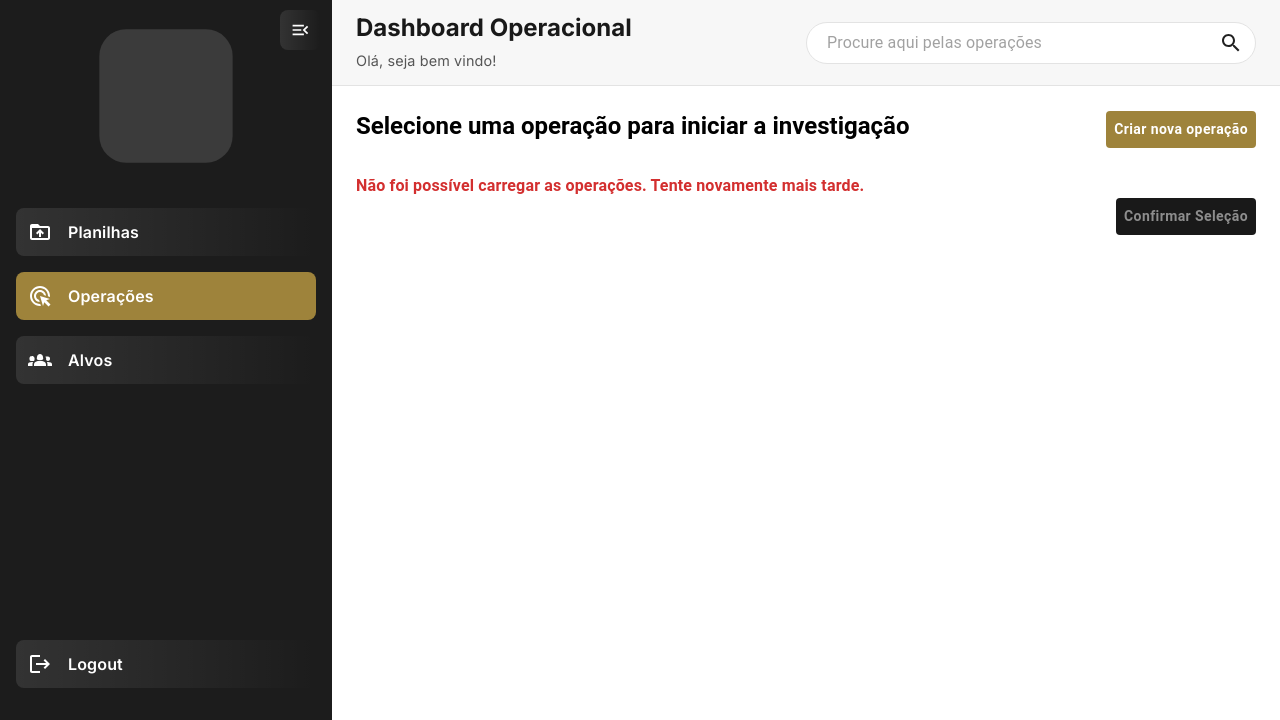
it: Teste de Operações - Criação e Seleção › Deve permitir fechar o modal sem criar operação
The width and height of the screenshot is (1280, 720).
Check: the heading "Selecione uma operação para iniciar a investigação" is shown, box [356,110,910,142]
// Clica no botão "Criar nova operação"
Click the button "Criar nova operação" at {"x": 1181, "y": 130}, box [1106,111,1256,148]
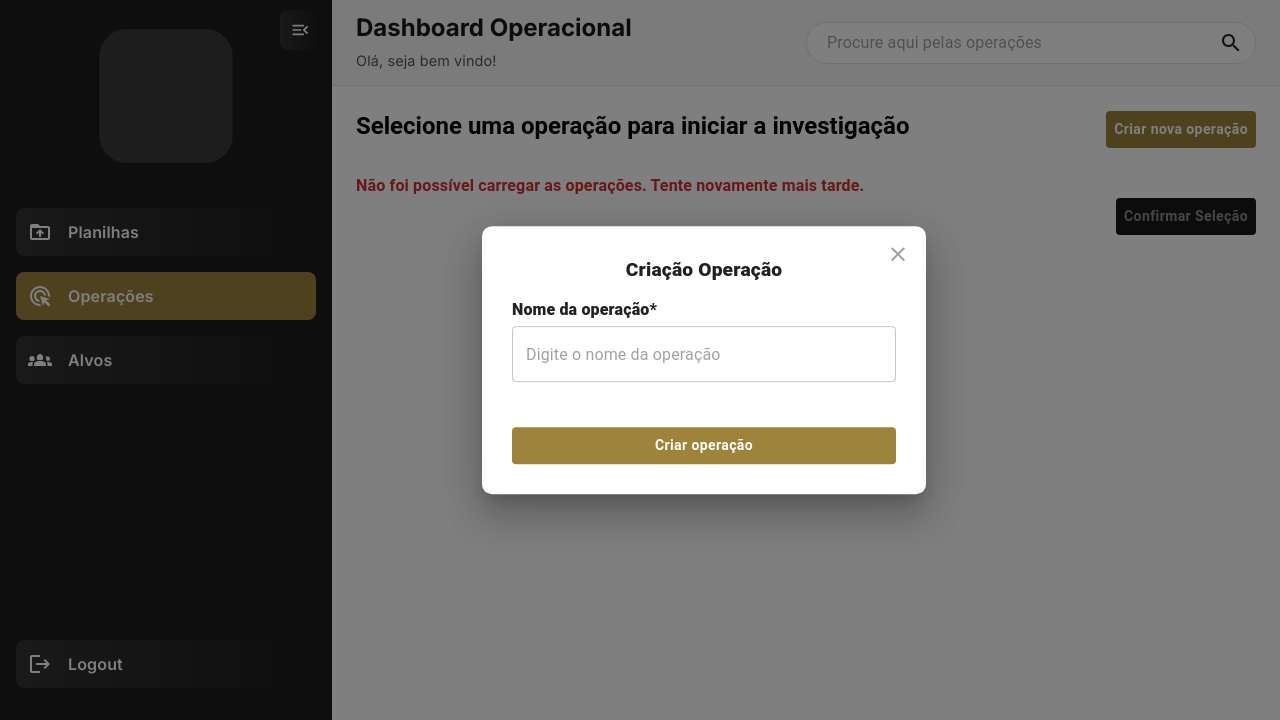
Check: the dialog is shown, box [482,226,926,494]
// Clica no botão X para fechar
Click the button named "close" at {"x": 898, "y": 254}, box [878,234,918,274]
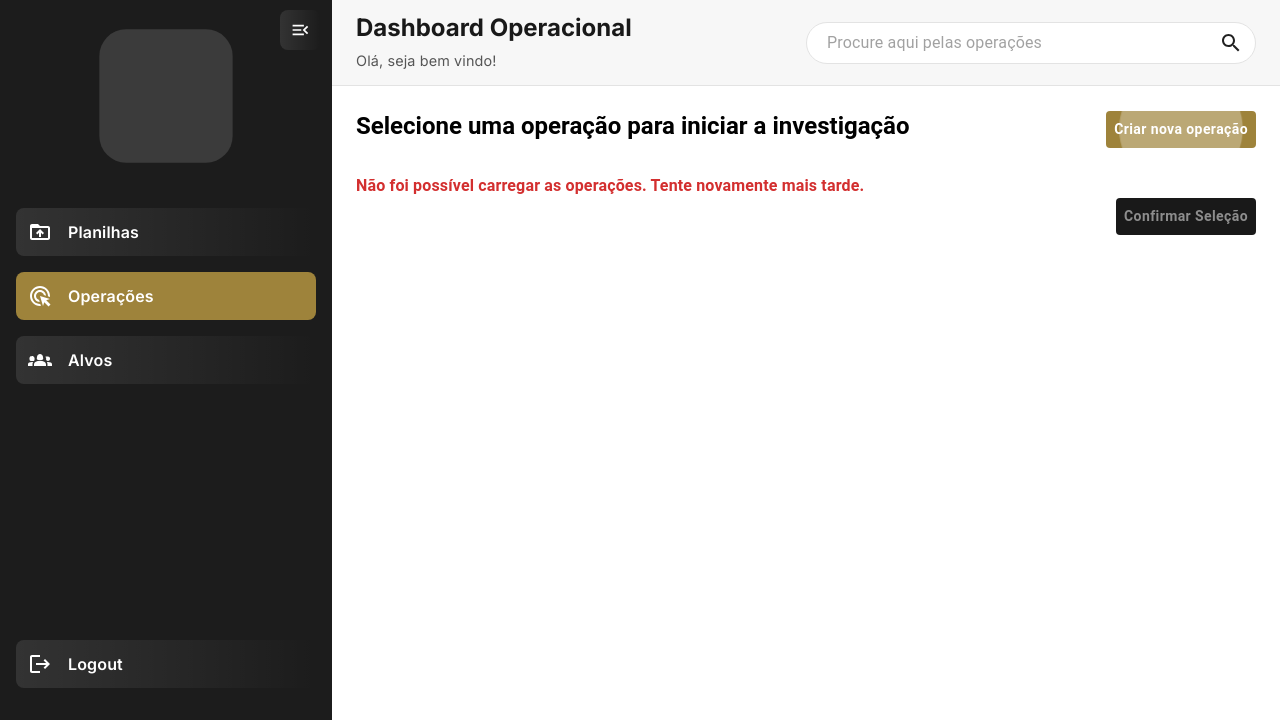
Check: the dialog is gone
